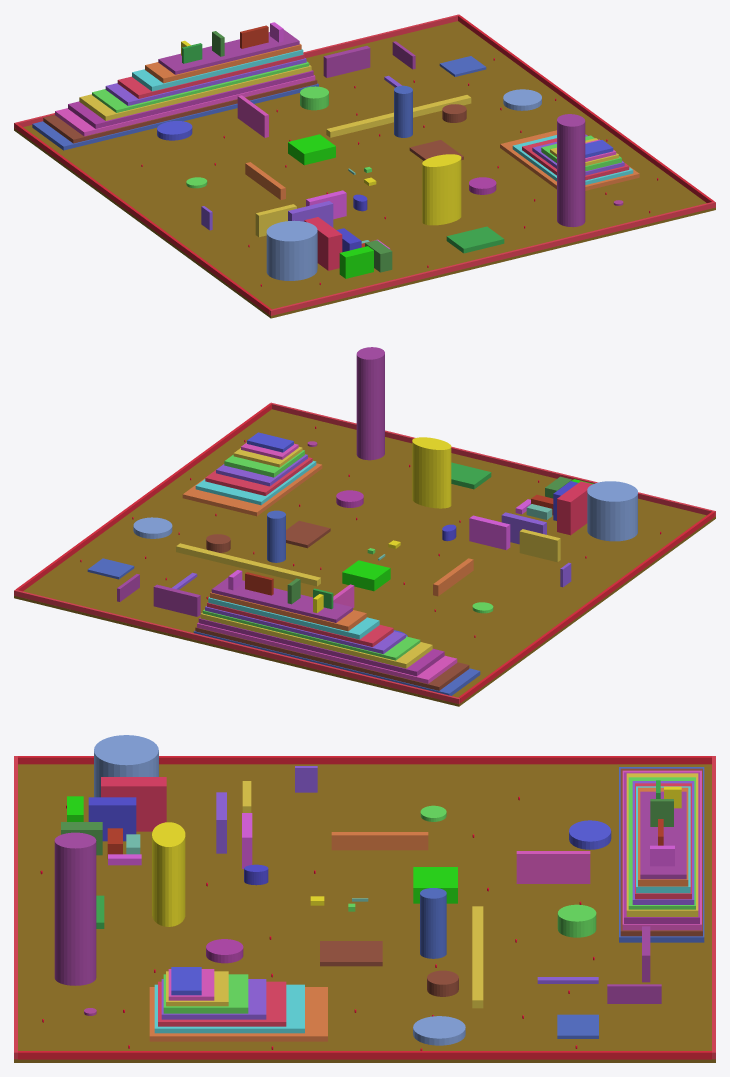
3 views of the same model, one above another, from view 1: azimuth 30°, elevation 25°; view 2: azimuth 150°, elevation 25°; view 3: azimuth 270°, elevation 25° (orthographic). The views are drawn at different scales.
Visible parts, largest first — view 1: Cube, Cylinder.011, Cube.002, Cylinder.004, Cylinder.010, Cube.004, Cube.003, Cube.045, Cube.038, Cube.037, Cube.036, Cube.039 (+29 smaller); view 2: Cube, Cylinder.011, Cube.001, Cylinder.004, Cylinder.010, Cube.002, Cube.004, Cube.003, Cube.045, Cube.037, Cube.038, Cube.039 (+26 smaller); view 3: Cube, Cylinder.011, Cube.003, Cube.004, Cylinder.010, Cube.021, Cube.045, Cylinder.004, Cube.034, Cube.006, Cube.022, Cube.023 (+36 smaller).
Boxes of the visible parts, bbox=[...] form: Cube: bbox=[14, 21, 715, 318]; Cylinder.011: bbox=[557, 114, 585, 227]; Cube.002: bbox=[269, 201, 715, 315]; Cylinder.004: bbox=[266, 220, 317, 280]; Cylinder.010: bbox=[422, 154, 461, 225]; Cube.004: bbox=[15, 123, 271, 314]; Cube.003: bbox=[458, 15, 713, 202]; Cube.045: bbox=[158, 29, 299, 74]; Cube.038: bbox=[68, 70, 313, 128]; Cube.037: bbox=[55, 75, 315, 136]; Cube.036: bbox=[43, 79, 317, 143]; Cube.039: bbox=[79, 65, 311, 120]; Cube: bbox=[14, 409, 715, 706]; Cylinder.011: bbox=[356, 347, 384, 460]; Cube.001: bbox=[14, 589, 460, 703]; Cylinder.004: bbox=[587, 481, 637, 541]; Cylinder.010: bbox=[412, 437, 451, 508]; Cube.002: bbox=[270, 402, 715, 516]; Cube.004: bbox=[458, 511, 714, 702]; Cube.003: bbox=[16, 403, 271, 591]; Cube.045: bbox=[211, 577, 352, 622]; Cube.037: bbox=[197, 622, 457, 683]; Cube.038: bbox=[198, 617, 444, 676]; Cube.039: bbox=[200, 612, 432, 668]; Cube: bbox=[14, 764, 715, 1062]; Cylinder.011: bbox=[54, 832, 96, 985]; Cube.003: bbox=[18, 1051, 711, 1059]; Cube.004: bbox=[18, 756, 711, 764]; Cylinder.010: bbox=[152, 822, 185, 926]; Cube.021: bbox=[149, 987, 327, 1041]; Cube.045: bbox=[640, 791, 686, 879]; Cylinder.004: bbox=[94, 735, 158, 797]; Cube.034: bbox=[516, 851, 590, 883]; Cube.006: bbox=[101, 777, 166, 831]; Cube.022: bbox=[154, 984, 304, 1033]; Cube.023: bbox=[158, 981, 286, 1026].
Bounding box in the file's own units: 368 × 81.34 × 368.
